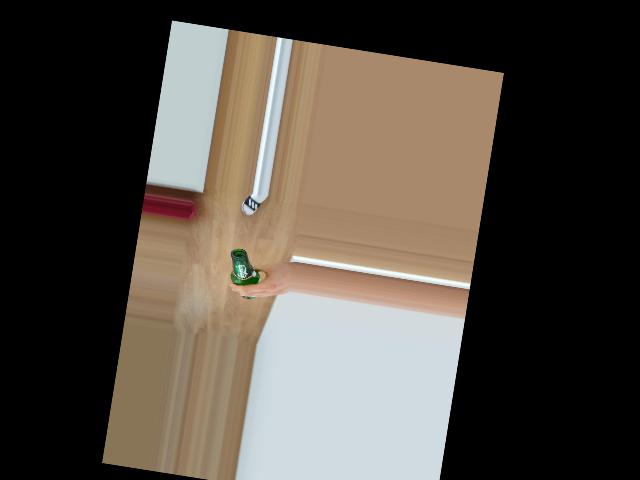beer: (224, 247, 264, 299)
